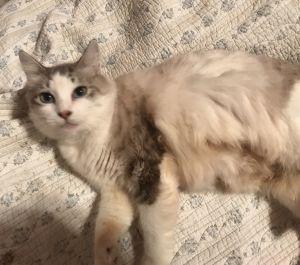ragdoll: (16, 36, 113, 144)
